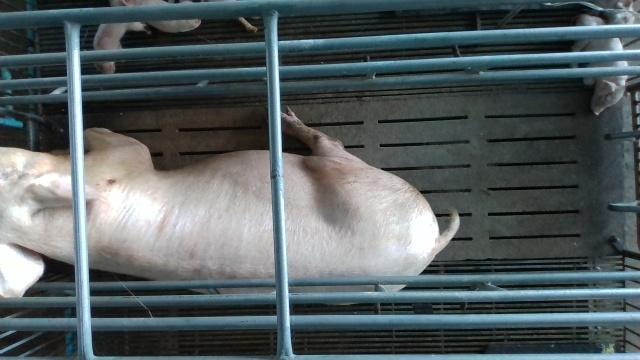piglet: (571, 13, 628, 116), (88, 21, 147, 74), (109, 0, 201, 33)
sow-sit: (0, 105, 459, 298)
